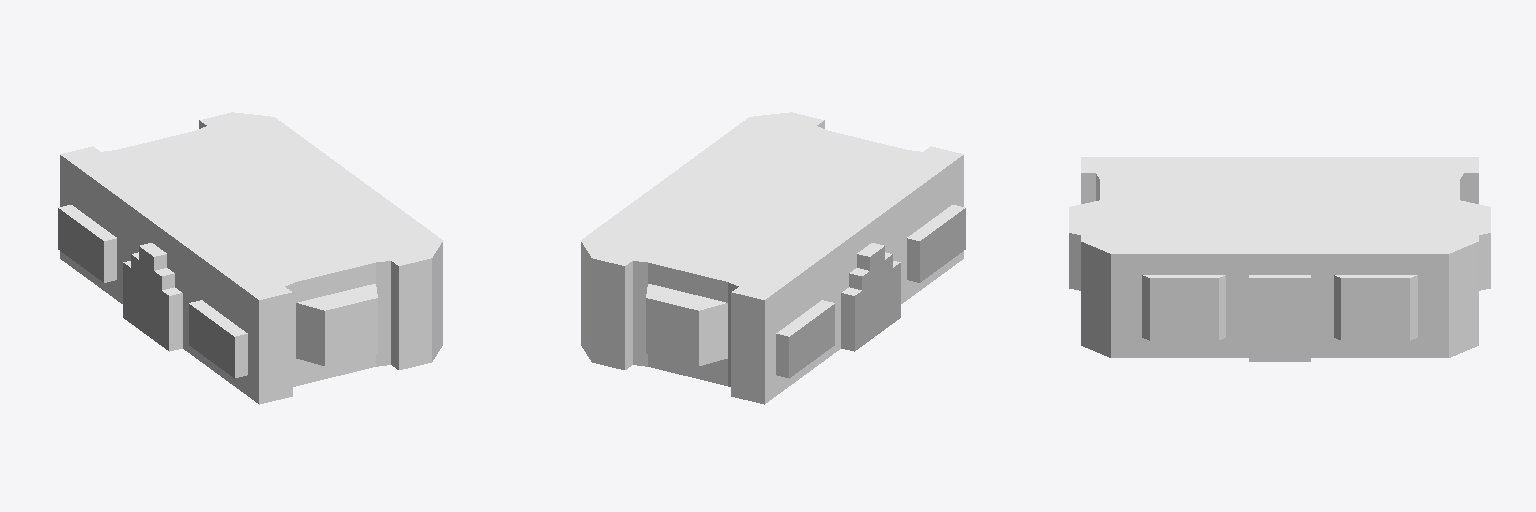
Rendered from map01_sect05.obj.
3 views of the same model, side by side, from view 1: azimuth 30°, elevation 25°; view 2: azimuth 150°, elevation 25°; view 3: azimuth 270°, elevation 25° (orthographic).
Parts seen in each view (by area): view 1: MAP01; view 2: MAP01; view 3: MAP01.
Part boxes in pixels (left/top/right/bottom): MAP01: left=58, top=112, right=442, bottom=404; MAP01: left=581, top=112, right=965, bottom=404; MAP01: left=1069, top=157, right=1490, bottom=361.
Size of the model in its own units: 528 by 240 by 880.